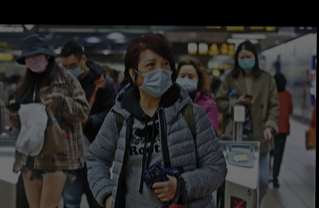with_mask: (137, 55, 175, 99), (22, 51, 49, 73), (174, 70, 198, 93), (59, 61, 84, 79), (236, 51, 257, 72)
